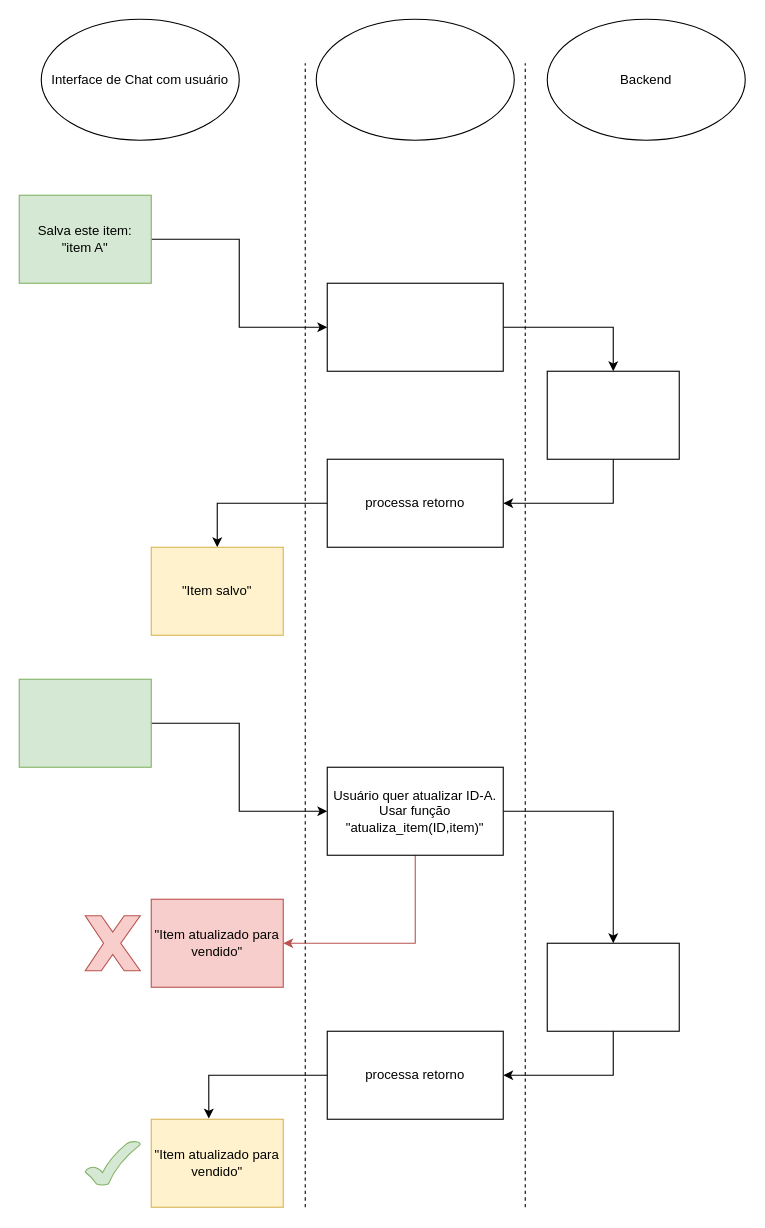
This 765x1228 diagram has some shape labels left out. Each missing label, with the centre of its shape:
atualiza (id, item): crud() return True: point 612,986
Chatgpt: point 414,79
Muda status para vendido: point 84,722
salva (item): crud() return ID-A: point 612,414
Usuário quer salvar "item A". Usar função "salva_item(item)": point 414,326
